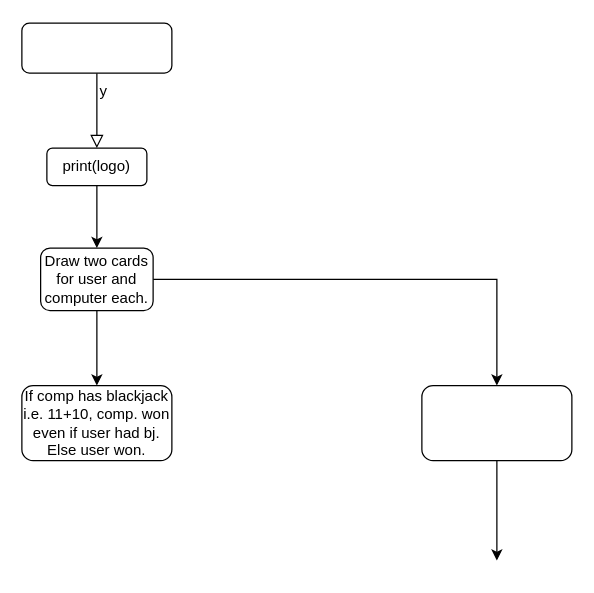
This 594x593 diagram has some shape labels left out. The box of each missing label's shape, as (x1, y1, x2, y2) in pixels:
Do you want to play a game of Black-Jack, type 'y' or 'n'.: (21, 22, 172, 73)
print sum of user's two cards & show comp. first card: (421, 384, 572, 461)
